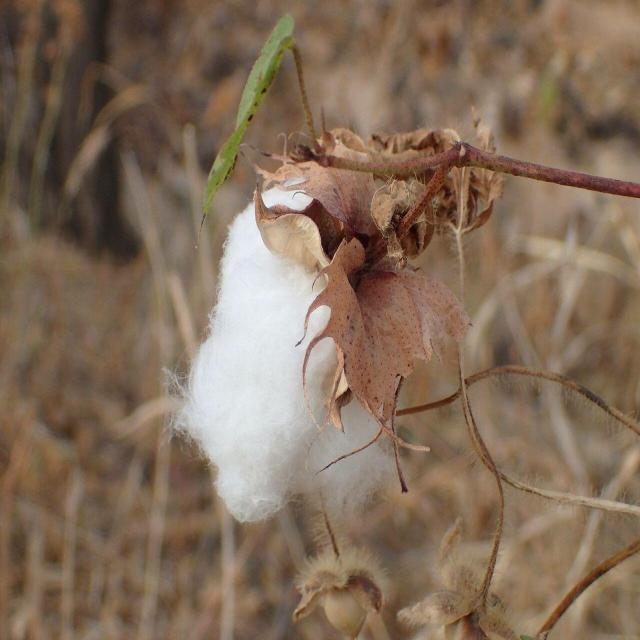Leaf: (152, 110, 515, 543)
